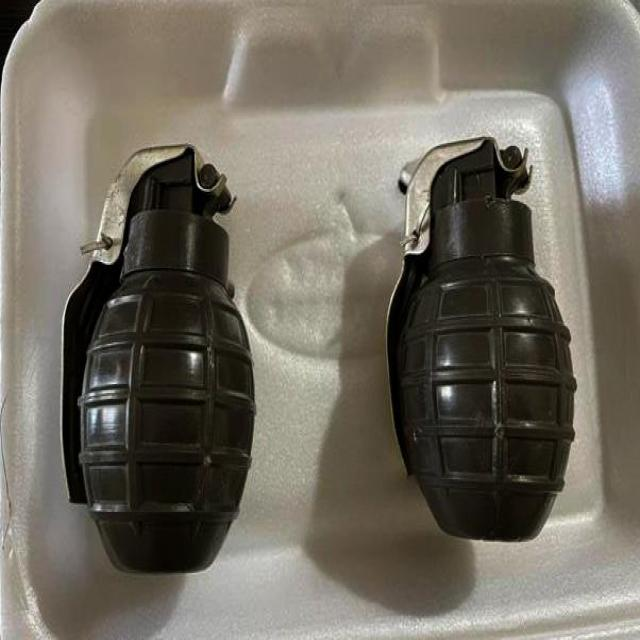grenade: (64, 147, 258, 576), (387, 141, 578, 544)
